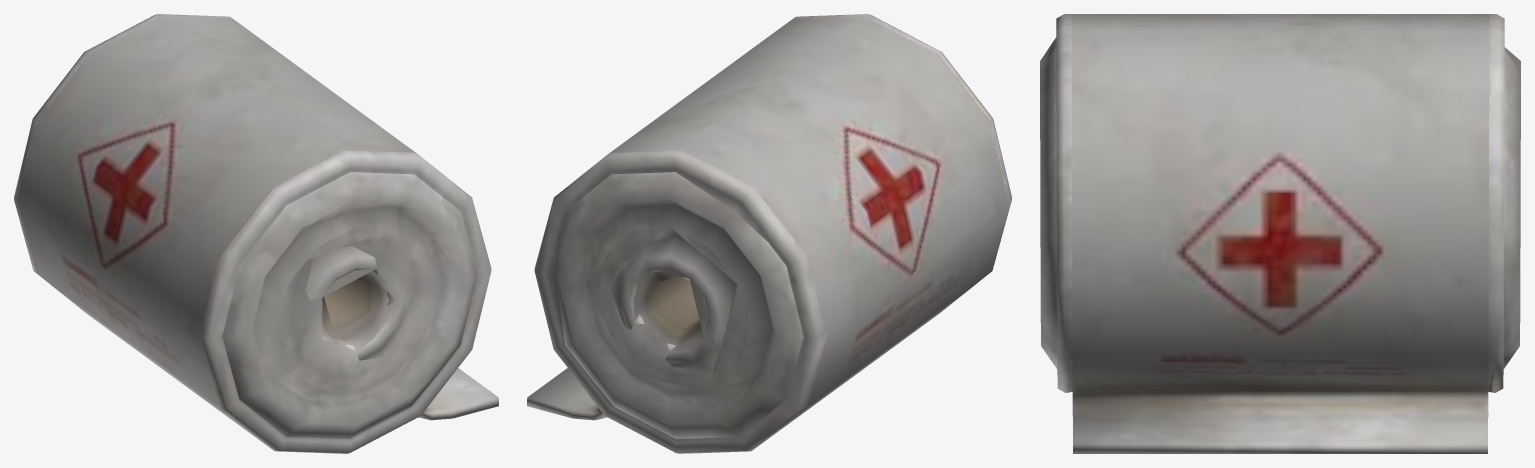
Rendered from imp-bandage.glb.
3 renders of one model, left to right at view 1: azimuth 30°, elevation 25°; view 2: azimuth 150°, elevation 25°; view 3: azimuth 270°, elevation 25°, orthographic. The views are drawn at different scales.
Parts seen in each view (by area): view 1: Kerbside_metres_ground_pivot (×2); view 2: Kerbside_metres_ground_pivot (×2); view 3: Kerbside_metres_ground_pivot (×2).
Boxes of the visible parts, x1,y1,x2,y2 form: Kerbside_metres_ground_pivot (×2): (14, 14, 498, 453); Kerbside_metres_ground_pivot (×2): (527, 14, 1011, 453); Kerbside_metres_ground_pivot (×2): (1040, 14, 1520, 453).
Bounding box in the file's own units: 0.0822 × 0.0791 × 0.1.
1 material, 1 textured.
